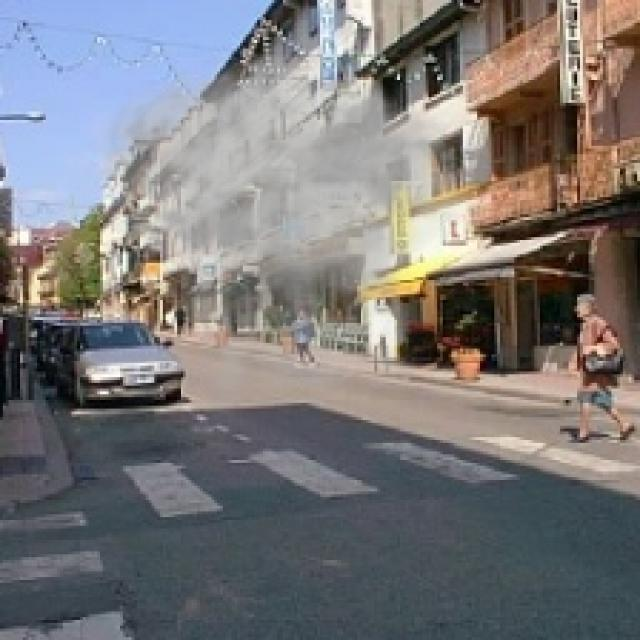Smoke: (86, 51, 492, 426)
